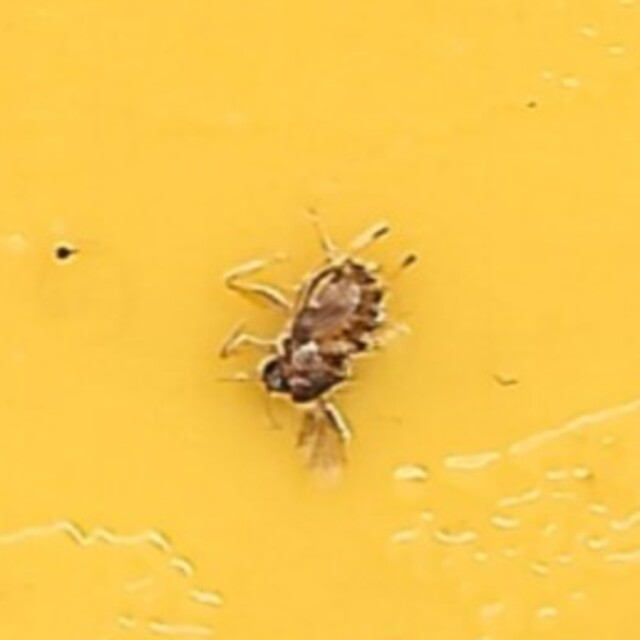Nematocera: (248, 223, 392, 417)
